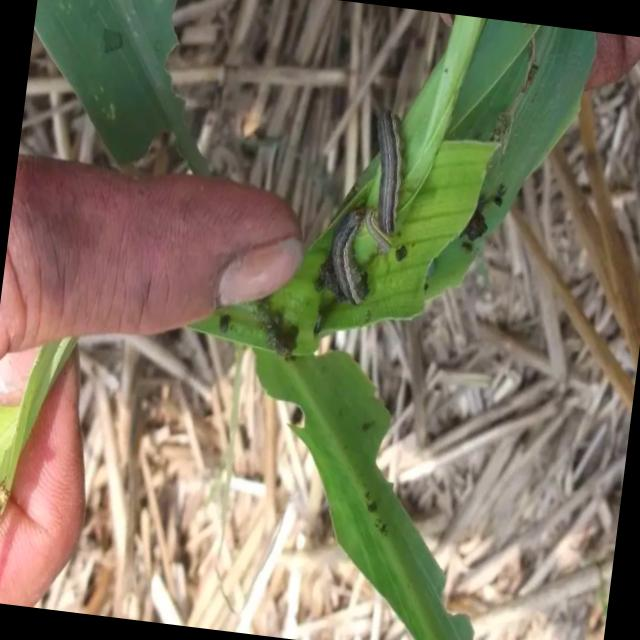pest: (356, 101, 412, 251), (316, 210, 374, 302)
